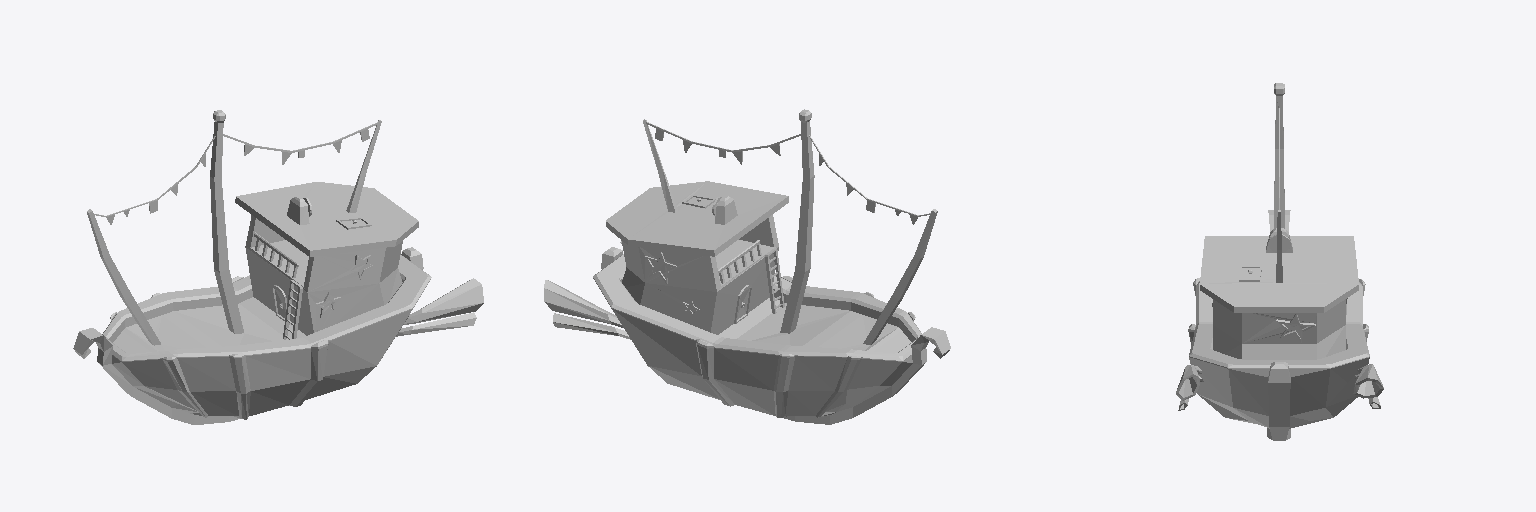
Rendered from Schiffobj.obj.
The picture shows the model from 3 angles: view 1: azimuth 30°, elevation 25°; view 2: azimuth 150°, elevation 25°; view 3: azimuth 270°, elevation 25°; orthographic projection.
Visible parts, largest first — view 1: Würfel_Würfel.001; view 2: Würfel_Würfel.001; view 3: Würfel_Würfel.001.
Boxes of the visible parts, x1,y1,x2,y2 form: Würfel_Würfel.001: [73, 110, 483, 424]; Würfel_Würfel.001: [544, 109, 950, 424]; Würfel_Würfel.001: [1176, 83, 1383, 440].
Size of the model in its own units: 4.55 by 3.75 by 2.31.